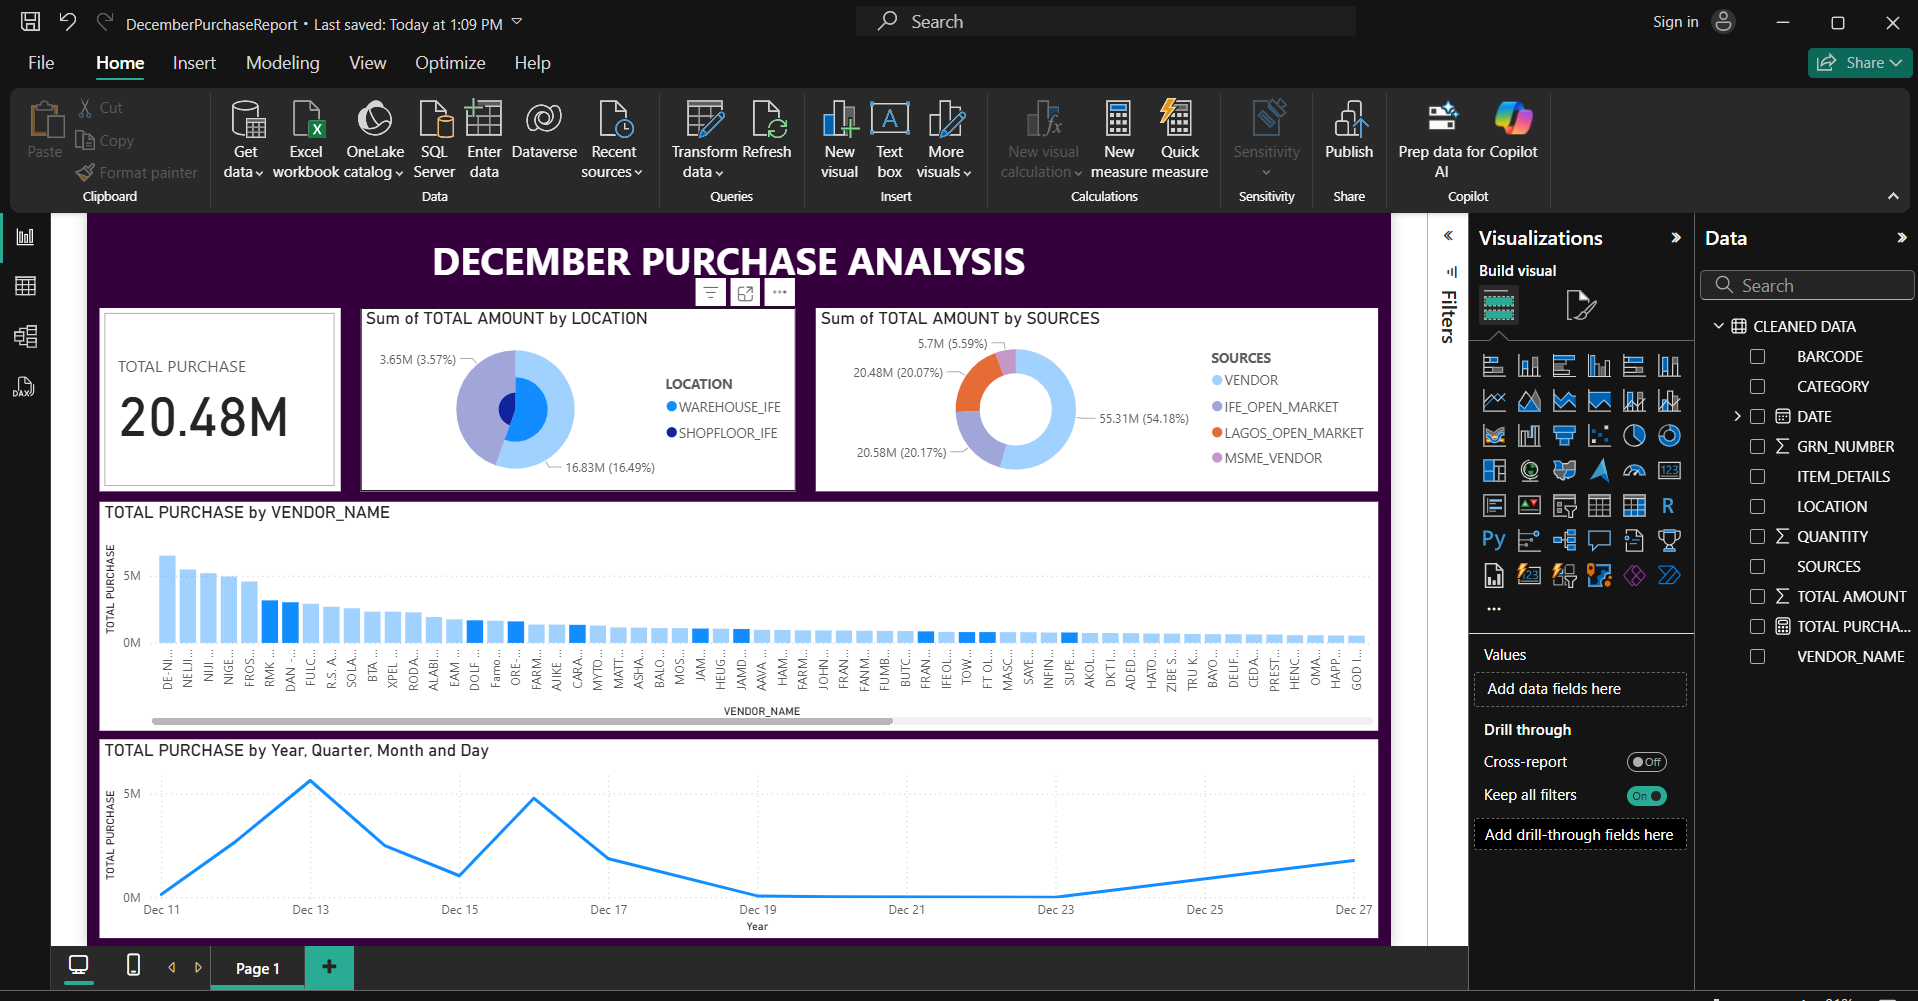

The dashboard page shown, as its layout file describes it:
{"tool":"powerbi","page":{"name":"Page 1","canvas":[1280,720],"ordinal":0},"visuals":[{"type":"cardVisual","fields":{"Data":["CLEANED DATA.Sum Total"]},"box":[12.3,93.3,236.8,180.4],"z":0},{"type":"columnChart","fields":{"Category":["CLEANED DATA.VENDOR_NAME"],"Y":["CLEANED DATA.TOTAL PURCHASE"]},"box":[12.3,283.4,1255.2,224.5],"z":1000},{"type":"pieChart","fields":{"Category":["CLEANED DATA.LOCATION"],"Y":["CLEANED DATA.TOTAL AMOUNT"]},"box":[268.7,93.3,427,180.4],"z":2000},{"type":"donutChart","fields":{"Category":["CLEANED DATA.SOURCES"],"Y":["CLEANED DATA.TOTAL AMOUNT"]},"box":[715.3,93.3,552.2,180.4],"z":3000},{"type":"lineChart","fields":{"Category":["CLEANED DATA.DATE.Variation.Date Hierarchy.Year","CLEANED DATA.DATE.Variation.Date Hierarchy.Quarter","CLEANED DATA.DATE.Variation.Date Hierarchy.Month","CLEANED DATA.DATE.Variation.Date Hierarchy.Day"],"Y":["CLEANED DATA.TOTAL PURCHASE"]},"box":[12.3,516.6,1255.2,195.1],"z":4000},{"type":"textbox","box":[333.7,16,613.5,62.6],"z":4001}]}

Visuals, with their boxes on the page's 1280x720 design canvas (x1, y1, x2, y2). These are canvas units, not pixel positions in the 1918x1001 screenshot, which may show the page scaled, cropped or inside an application window:
cardVisual - CLEANED DATA.Sum Total: 12,93,249,274
columnChart - CLEANED DATA.VENDOR_NAME x CLEANED DATA.TOTAL PURCHASE: 12,283,1268,508
pieChart - CLEANED DATA.LOCATION x CLEANED DATA.TOTAL AMOUNT: 269,93,696,274
donutChart - CLEANED DATA.SOURCES x CLEANED DATA.TOTAL AMOUNT: 715,93,1268,274
lineChart - CLEANED DATA.DATE.Variation.Date Hierarchy.Year x CLEANED DATA.DATE.Variation.Date Hierarchy.Quarter: 12,517,1268,712
textbox: 334,16,947,79
